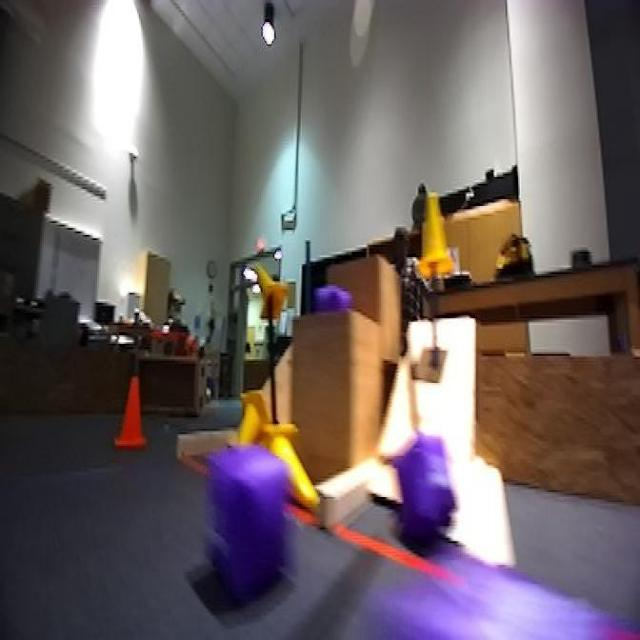frc_cone: (267, 431, 316, 498), (416, 191, 452, 279), (230, 381, 266, 443), (252, 257, 284, 323)
frc_cube: (333, 539, 639, 640), (210, 429, 301, 591), (397, 434, 453, 526), (313, 284, 357, 313)
